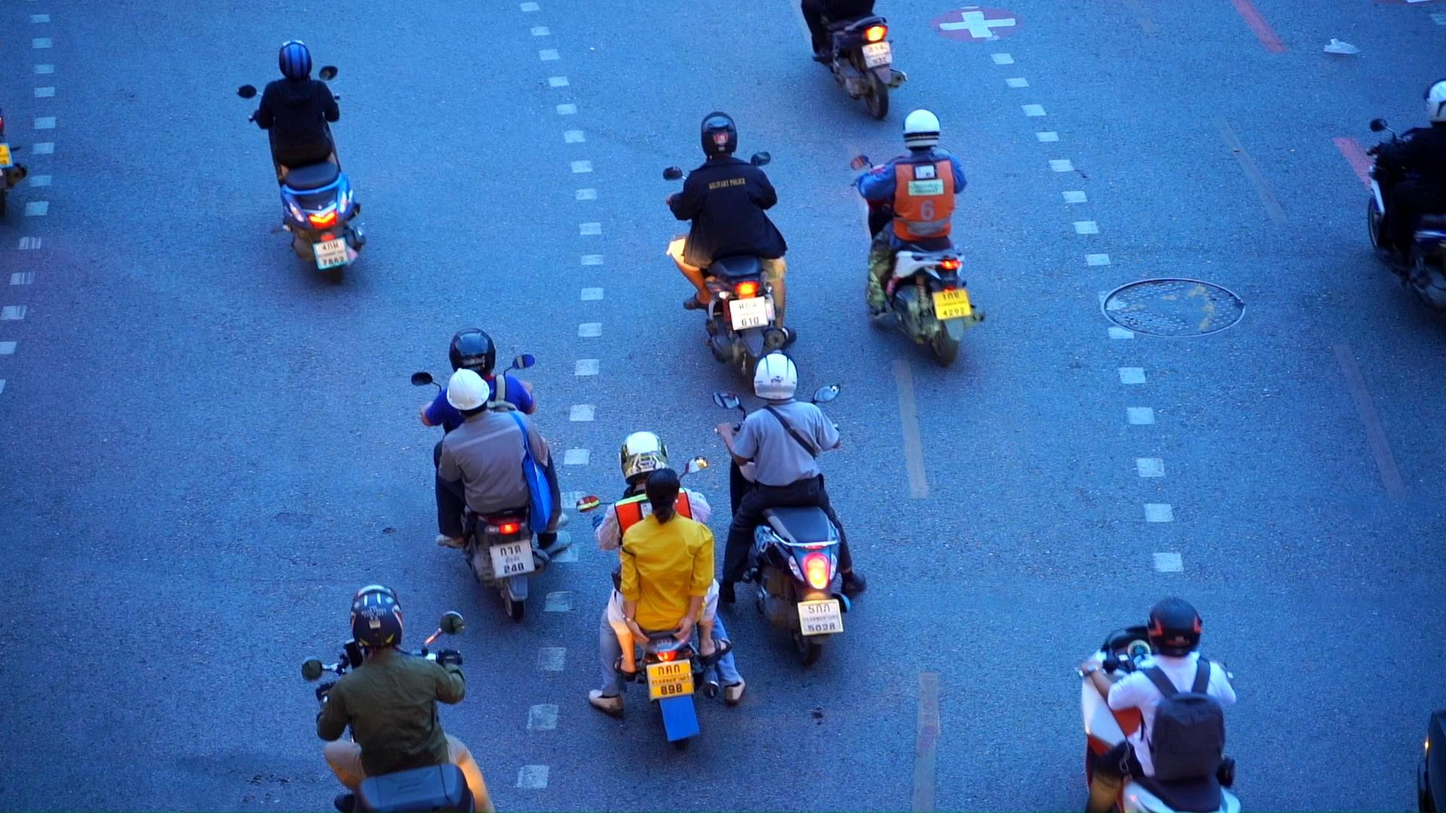driver: (576, 430, 745, 752), (712, 350, 865, 666), (411, 329, 571, 620), (300, 585, 499, 813), (663, 111, 797, 393), (1074, 597, 1244, 813), (850, 108, 985, 368), (237, 39, 365, 285), (1366, 77, 1446, 313), (801, 1, 909, 121)
helmet: (350, 584, 403, 650), (1148, 597, 1203, 658), (621, 431, 669, 485), (753, 349, 799, 401), (449, 329, 496, 379), (446, 368, 491, 417), (701, 112, 737, 162), (902, 108, 940, 151), (279, 40, 312, 81), (1421, 77, 1446, 124)
no-helmet: (645, 467, 680, 526)
